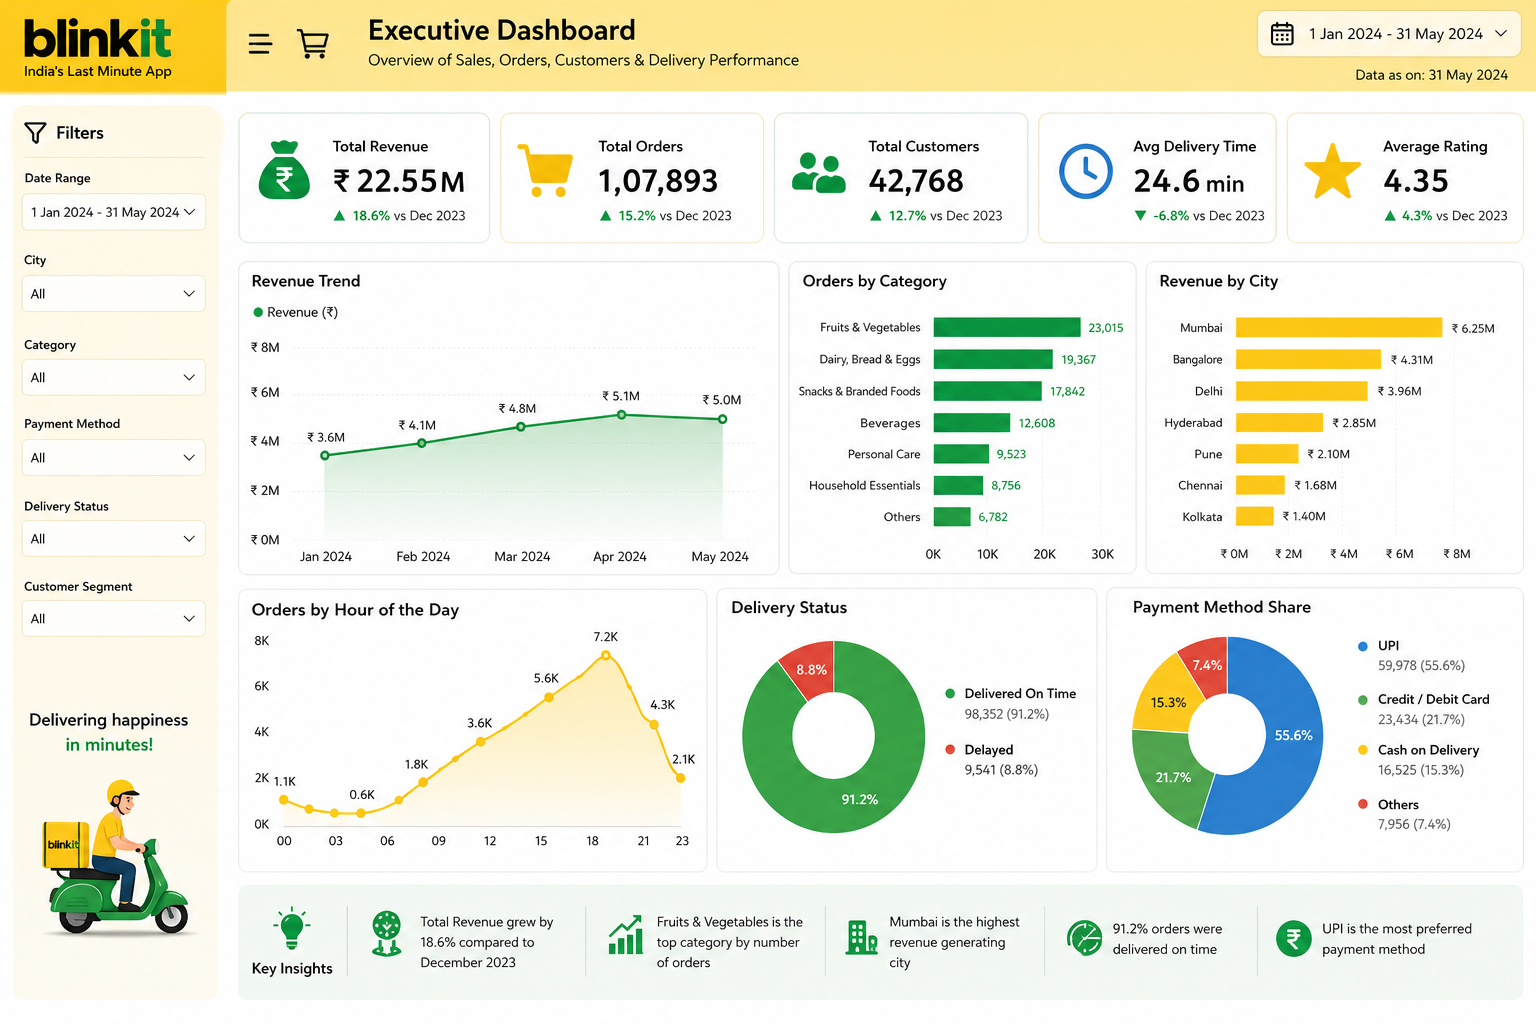

This screenshot's page, from the dashboard's own definition file:
{"tool":"powerbi","page":{"name":"Blinkit ","canvas":[1280,720],"ordinal":0},"visuals":[{"type":"shape","box":[0,63.8,215,656.2],"z":0},{"type":"slicer","title":"Date Range","fields":{"Values":["orders.order_date"]},"box":[10.9,171.8,178.2,51.8],"z":1000},{"type":"slicer","title":"City","fields":{"Values":["customers.city"]},"box":[15.5,261.8,178.2,54.5],"z":2000},{"type":"slicer","title":"Category","fields":{"Values":["products.category"]},"box":[13.8,350,177.5,52.5],"z":3000},{"type":"shape","box":[0,0,1280,73.8],"z":4000},{"type":"slicer","title":"Payment Method","fields":{"Values":["orders.payment_method"]},"box":[17.5,436.2,178.8,52.5],"z":5000},{"type":"slicer","title":"Delivery Status","fields":{"Values":["delivery.delivery_status"]},"box":[17.5,523.8,177.5,51.2],"z":6000},{"type":"textbox","box":[18.2,223.6,173.6,34.5],"z":7000},{"type":"slicer","title":"Customer Segment","fields":{"Values":["customers.customer_segment"]},"box":[16.2,610,177.5,52.5],"z":8000},{"type":"textbox","box":[17.3,137.3,172.7,34.5],"z":9000},{"type":"textbox","box":[18.8,316.2,173.8,33.8],"z":10000},{"type":"textbox","box":[15,402.5,173.8,33.8],"z":11000},{"type":"textbox","box":[18.8,488.8,173.8,35],"z":12000},{"type":"textbox","box":[20,575,172.5,35],"z":13000},{"type":"cardVisual","fields":{"Data":["orders.Total Revenue","orders.Total Orders","orders.Total Customers","orders.Avg Delivery Time","orders.Average Rating"]},"box":[216.2,73.8,1063.8,171.2],"z":14000},{"type":"textbox","box":[237.1,97.1,183.6,32.1],"z":15000},{"type":"textbox","box":[446.9,96.9,160.8,36.9],"z":16000},{"type":"textbox","box":[652.3,96.9,162.3,36.9],"z":17000},{"type":"textbox","box":[860.8,96.9,160.8,37.7],"z":18000},{"type":"textbox","box":[1067,97,161,38],"z":19000},{"type":"lineChart","fields":{"Category":["orders.order_date.Variation.Date Hierarchy.Year","orders.order_date.Variation.Date Hierarchy.Quarter","orders.order_date.Variation.Date Hierarchy.Month","orders.order_date.Variation.Date Hierarchy.Day"],"Y":["orders.Total Revenue"]},"box":[237.1,240,402.9,240],"z":20000},{"type":"textbox","box":[380,244.5,160,36.4],"z":21000},{"type":"clusteredBarChart","title":" Orders by category","fields":{"Category":["products.category"],"Y":["orders.Total Orders"]},"box":[652.5,241.2,310,238.8],"z":22000},{"type":"clusteredBarChart","title":"Revenue by City","fields":{"Category":["customers.city"],"Y":["orders.Total Revenue"]},"box":[975,241.2,285,238.8],"z":23000},{"type":"lineChart","title":"Orders by Hour the Date","fields":{"Category":["orders.Hour"],"Y":["orders.Total Orders"]},"box":[237.5,488.8,402.5,216.2],"z":24000},{"type":"donutChart","title":"Delivery Status","fields":{"Category":["delivery.delivery_status"],"Y":["CountNonNull(orders.order_id)"]},"box":[652.5,488.8,310,216.2],"z":25000},{"type":"donutChart","title":"Payment Method","fields":{"Category":["orders.payment_method"],"Y":["CountNonNull(orders.order_id)"]},"box":[975,490,285,216.2],"z":26000},{"type":"textbox","box":[527.5,13.8,375,60],"z":27000},{"type":"image","box":[20,0,168.8,73.8],"z":28000}]}

Visuals, with their boxes on the page's 1280x720 design canvas (x1, y1, x2, y2). These are canvas units, not pixel positions in the 1536x1024 screenshot, which may show the page scaled, cropped or inside an application window:
shape: (left=0, top=64, right=215, bottom=720)
"Date Range" slicer: (left=11, top=172, right=189, bottom=224)
"City" slicer: (left=16, top=262, right=194, bottom=316)
"Category" slicer: (left=14, top=350, right=191, bottom=402)
shape: (left=0, top=0, right=1280, bottom=74)
"Payment Method" slicer: (left=18, top=436, right=196, bottom=489)
"Delivery Status" slicer: (left=18, top=524, right=195, bottom=575)
textbox: (left=18, top=224, right=192, bottom=258)
"Customer Segment" slicer: (left=16, top=610, right=194, bottom=662)
textbox: (left=17, top=137, right=190, bottom=172)
textbox: (left=19, top=316, right=193, bottom=350)
textbox: (left=15, top=402, right=189, bottom=436)
textbox: (left=19, top=489, right=193, bottom=524)
textbox: (left=20, top=575, right=192, bottom=610)
cardVisual - orders.Total Revenue x orders.Total Orders: (left=216, top=74, right=1280, bottom=245)
textbox: (left=237, top=97, right=421, bottom=129)
textbox: (left=447, top=97, right=608, bottom=134)
textbox: (left=652, top=97, right=815, bottom=134)
textbox: (left=861, top=97, right=1022, bottom=135)
textbox: (left=1067, top=97, right=1228, bottom=135)
lineChart - orders.order_date.Variation.Date Hierarchy.Year x orders.order_date.Variation.Date Hierarchy.Quarter: (left=237, top=240, right=640, bottom=480)
textbox: (left=380, top=244, right=540, bottom=281)
" Orders by category" clusteredBarChart: (left=652, top=241, right=962, bottom=480)
"Revenue by City" clusteredBarChart: (left=975, top=241, right=1260, bottom=480)
"Orders by Hour the Date" lineChart: (left=238, top=489, right=640, bottom=705)
"Delivery Status" donutChart: (left=652, top=489, right=962, bottom=705)
"Payment Method" donutChart: (left=975, top=490, right=1260, bottom=706)
textbox: (left=528, top=14, right=902, bottom=74)
image: (left=20, top=0, right=189, bottom=74)
